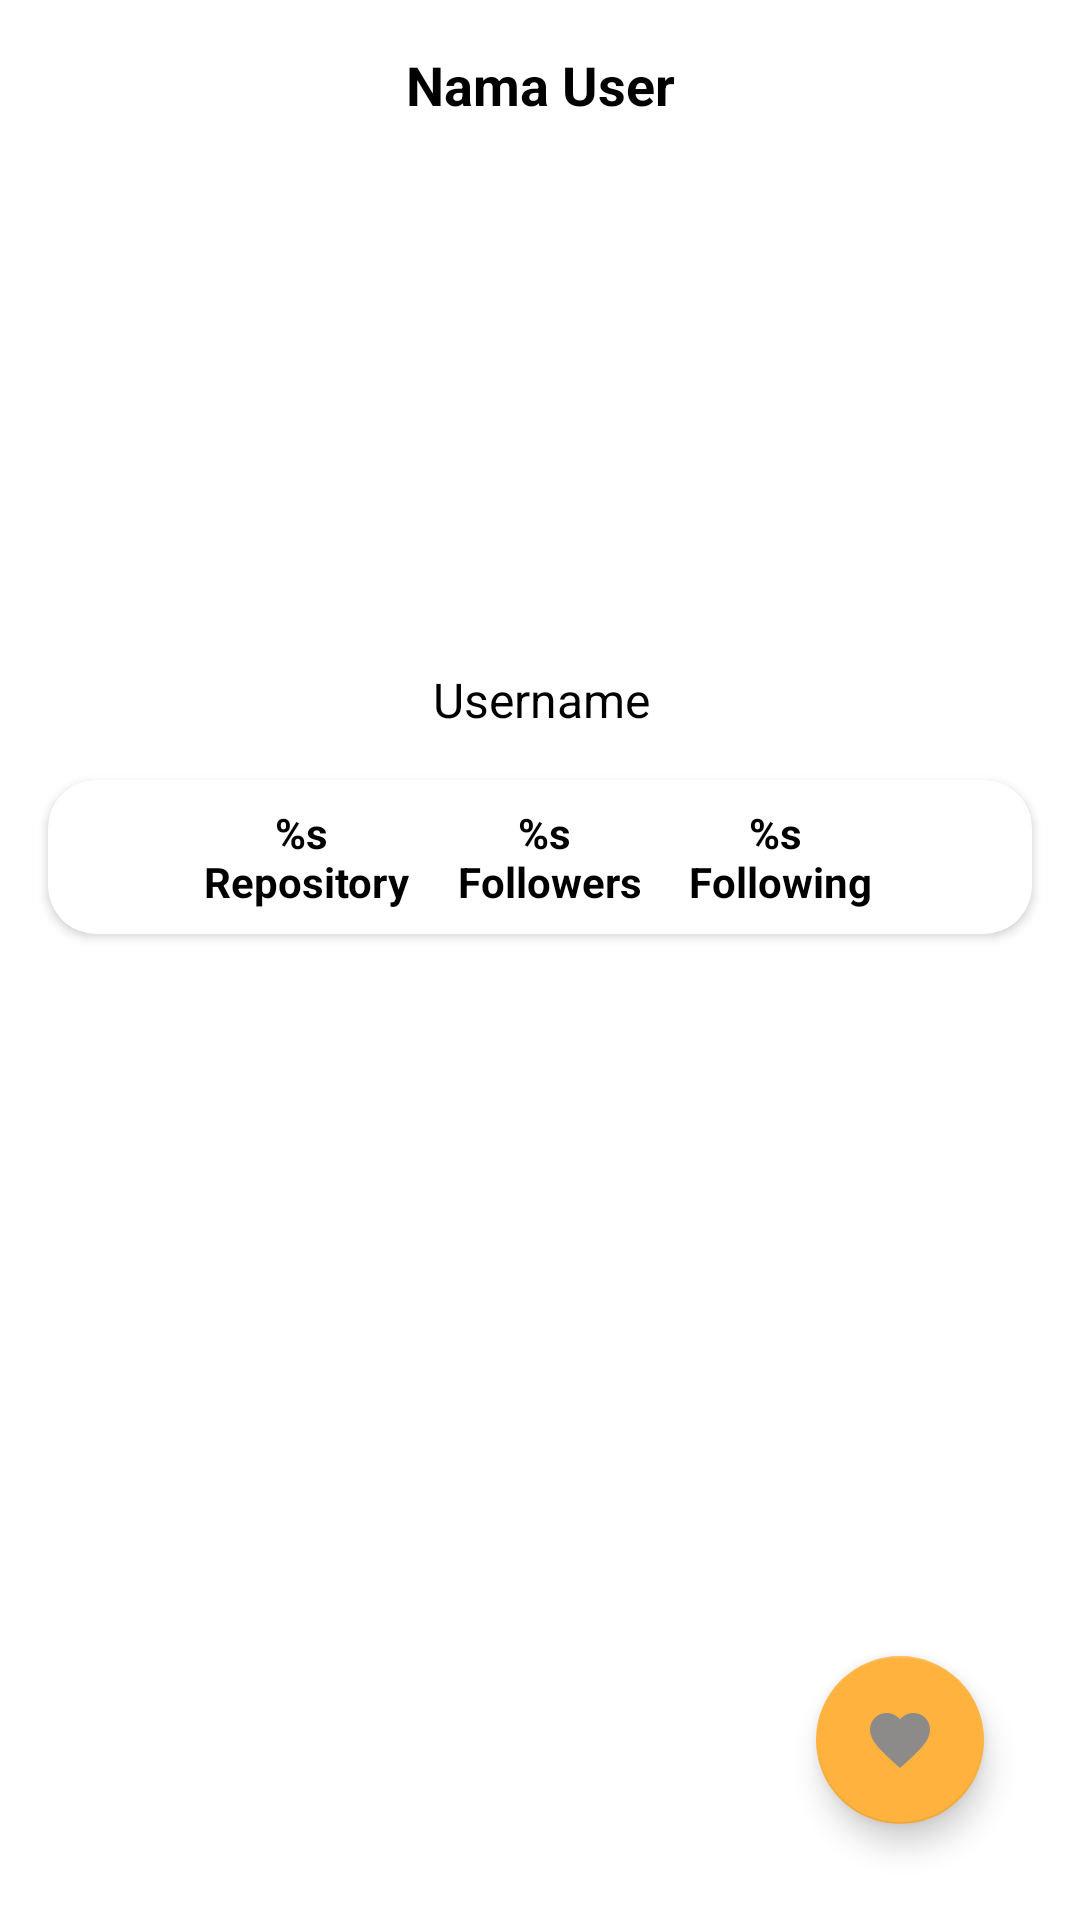

Icon click points for this 1080w x 1920h phone screenshot, format (x,y):
Favorite User: (900,1740)
